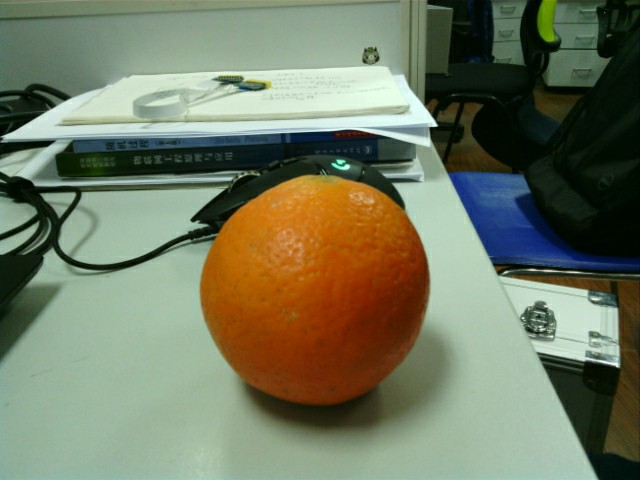normal_orange: (198, 175, 432, 408)
